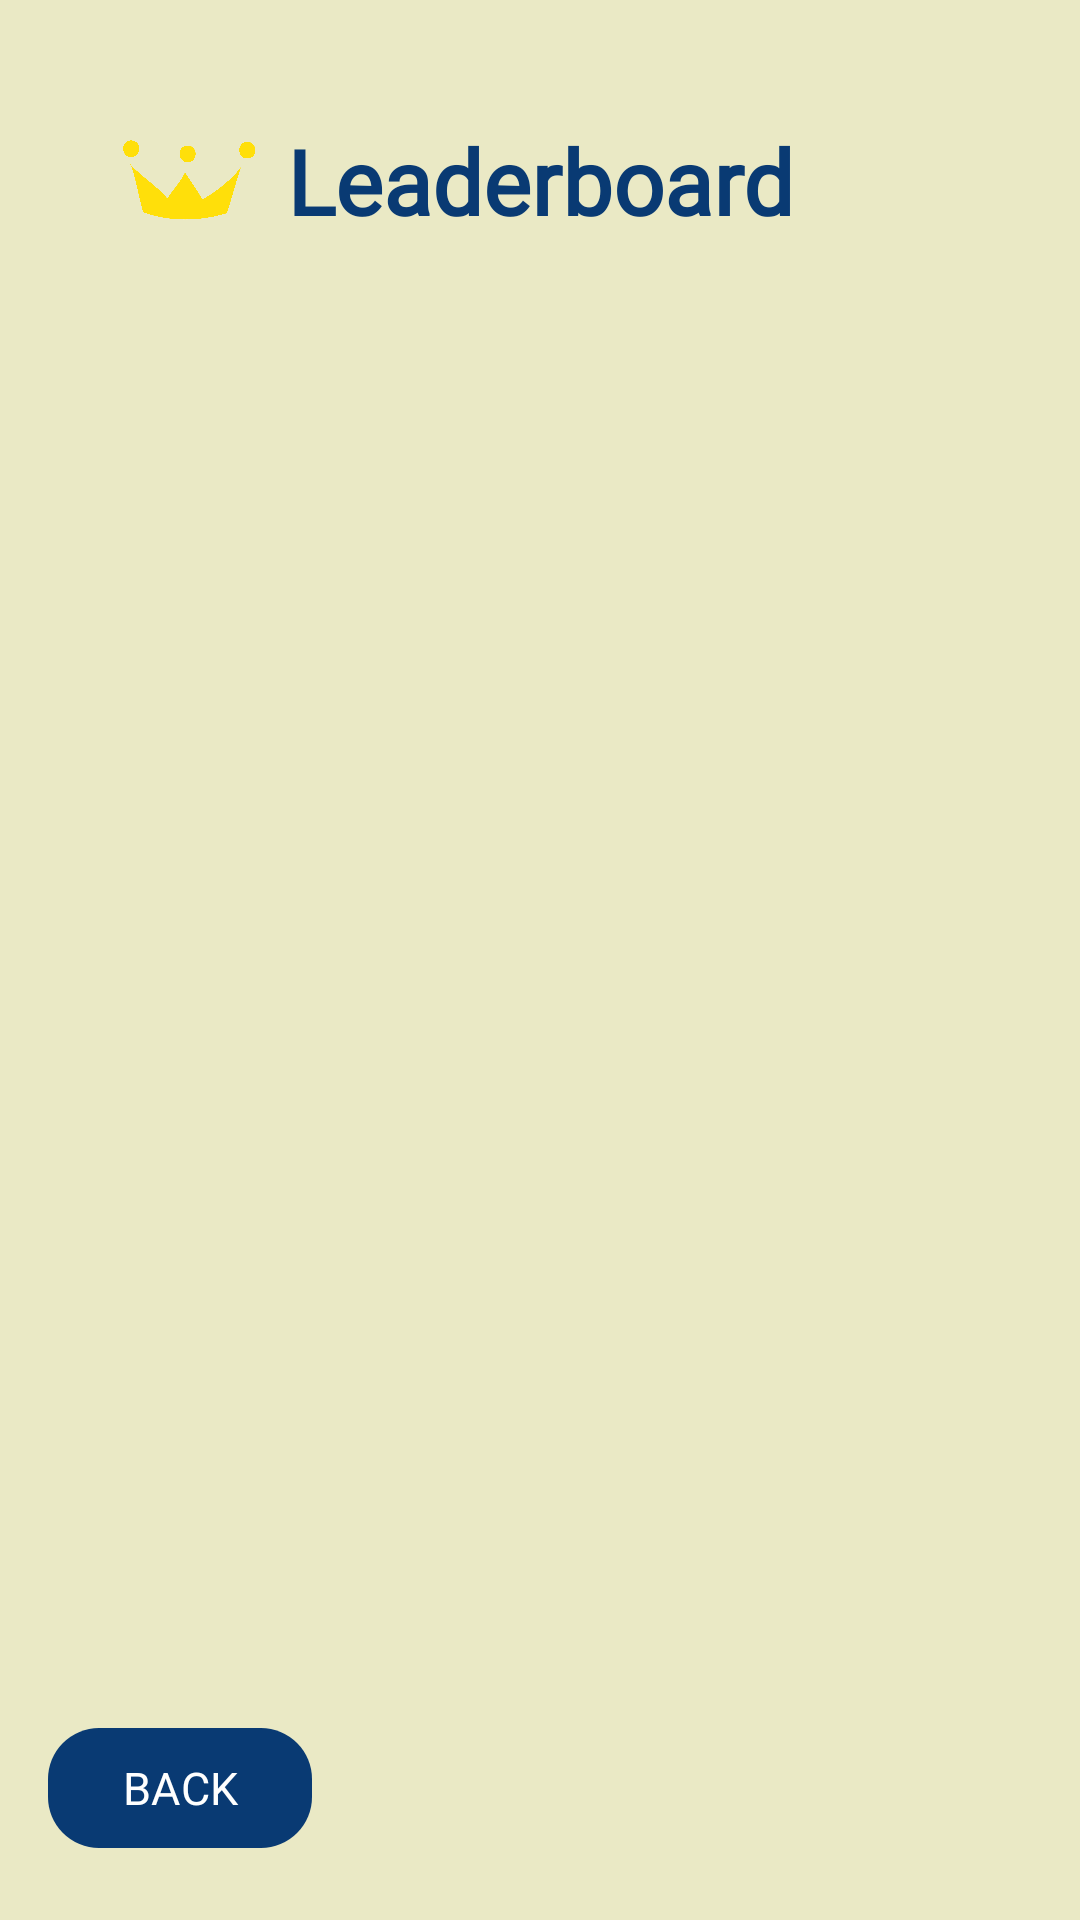

Icons on this 1080px×1920px Android screen, each with its box as (x1, y1, x2, y2):
crown: (123, 140, 255, 220)
